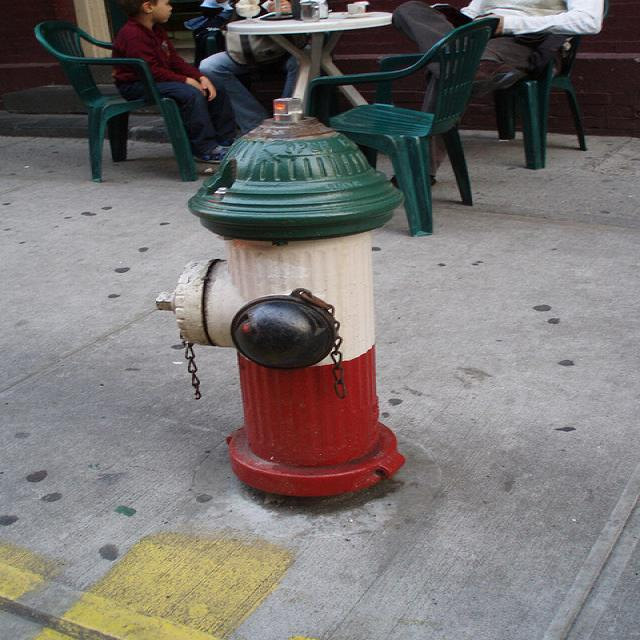chair: (300, 16, 499, 242), (33, 19, 199, 183), (494, 1, 612, 172), (206, 31, 220, 56)
dining table: (226, 11, 393, 110)
